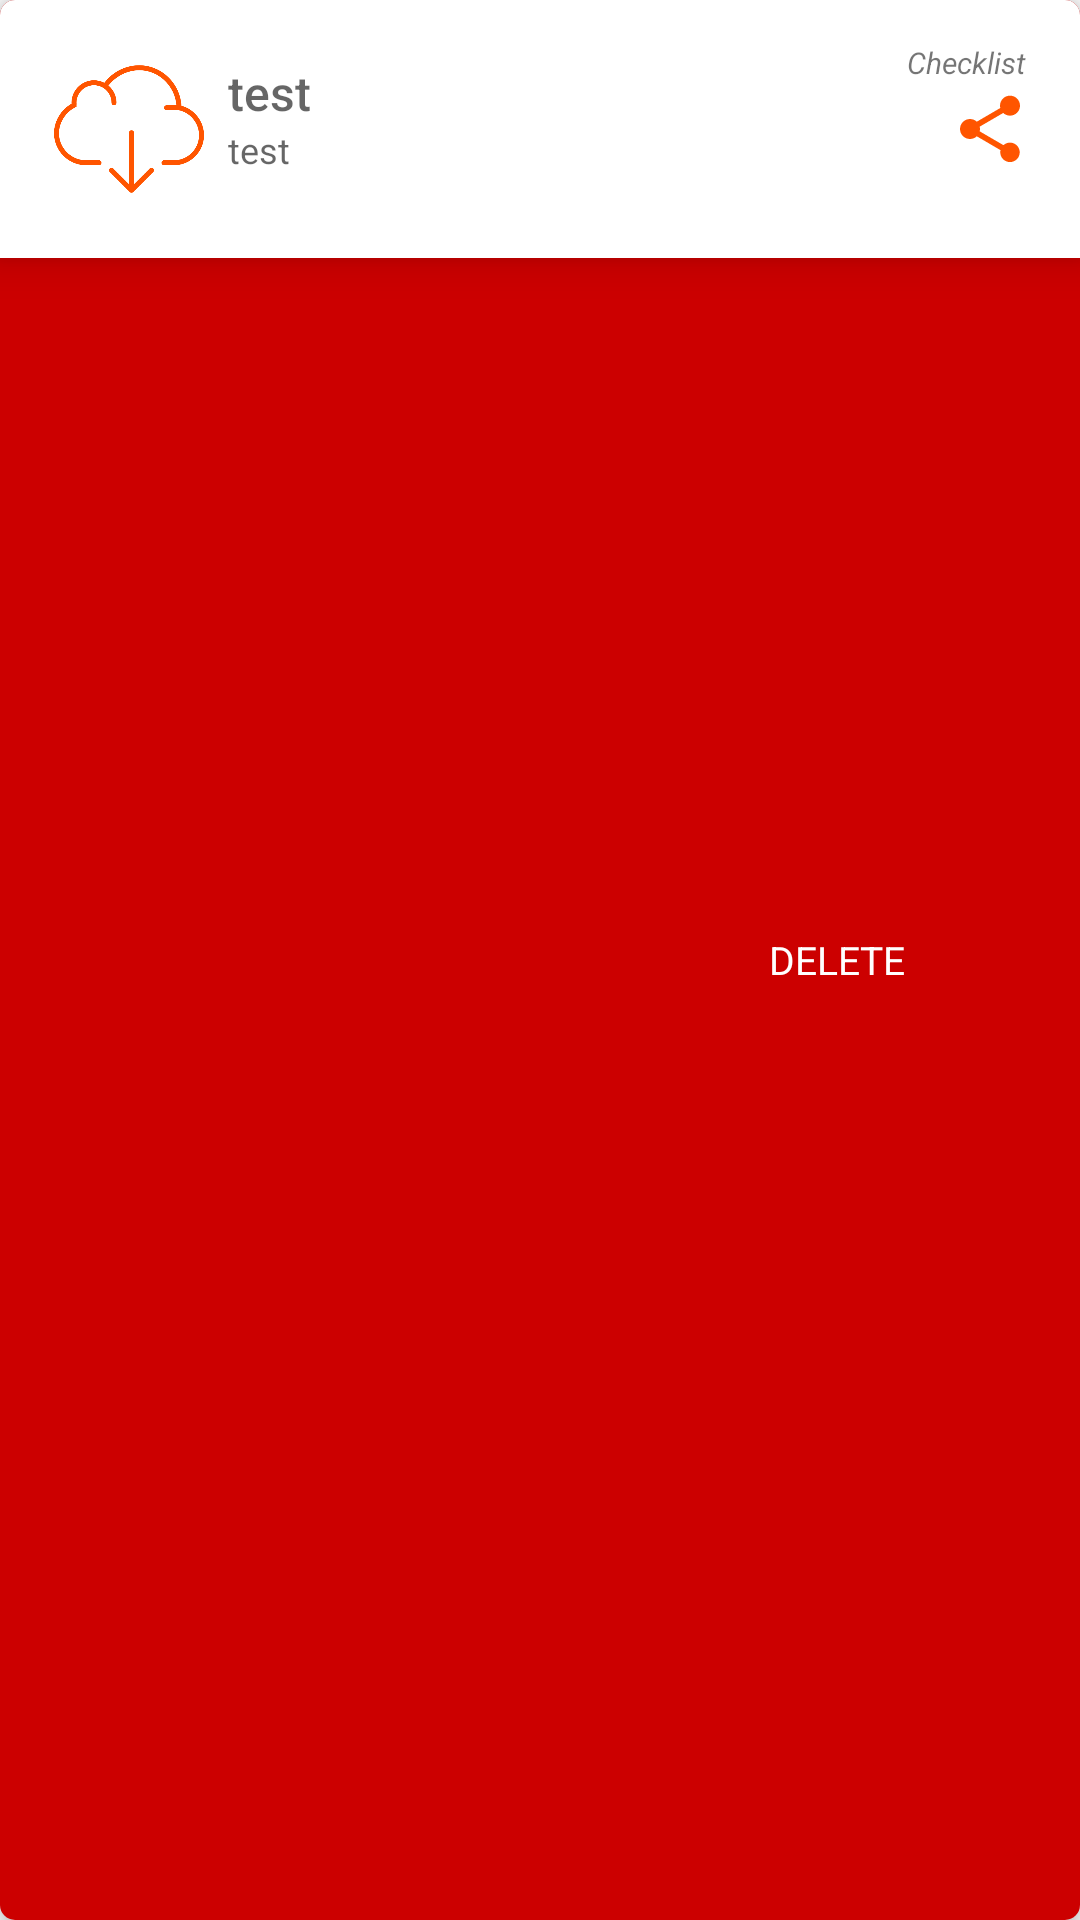

Named icons in this screenshot (1080*1920) and their bounding boxes, (x1, y1, x2, y2):
share: (958, 54, 1026, 162)
